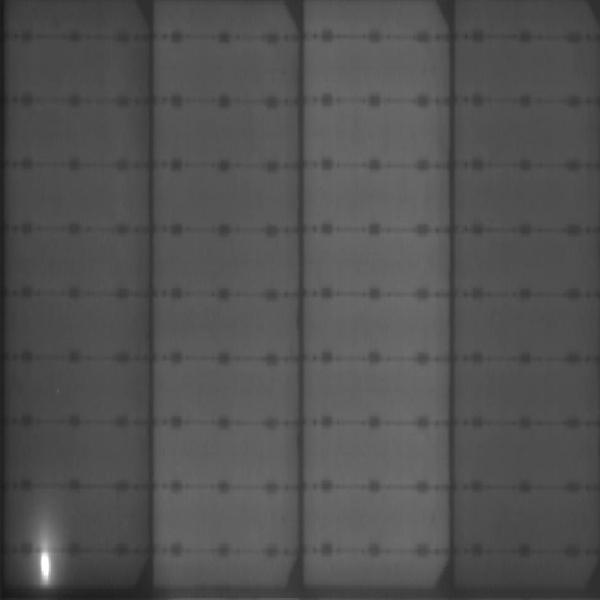hot_spot: (38, 554, 53, 582)
